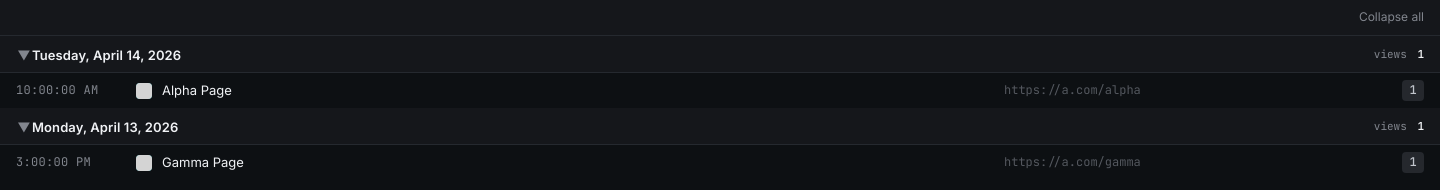
Test: HistoryList — collapse all / expand all › hides all rows after clicking 'Collapse all'
The image size is (1440, 190).
Click the button "Collapse all": coordinates (1391, 18) x1=1359 y1=9 x2=1424 y2=26
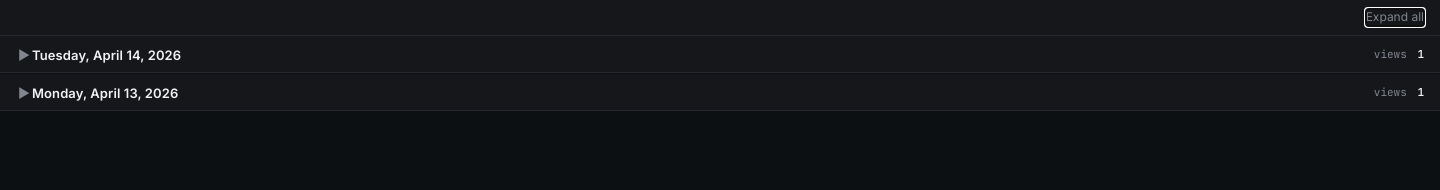
Now the link "Alpha Page" is gone
Now the link "Gamma Page" is gone
